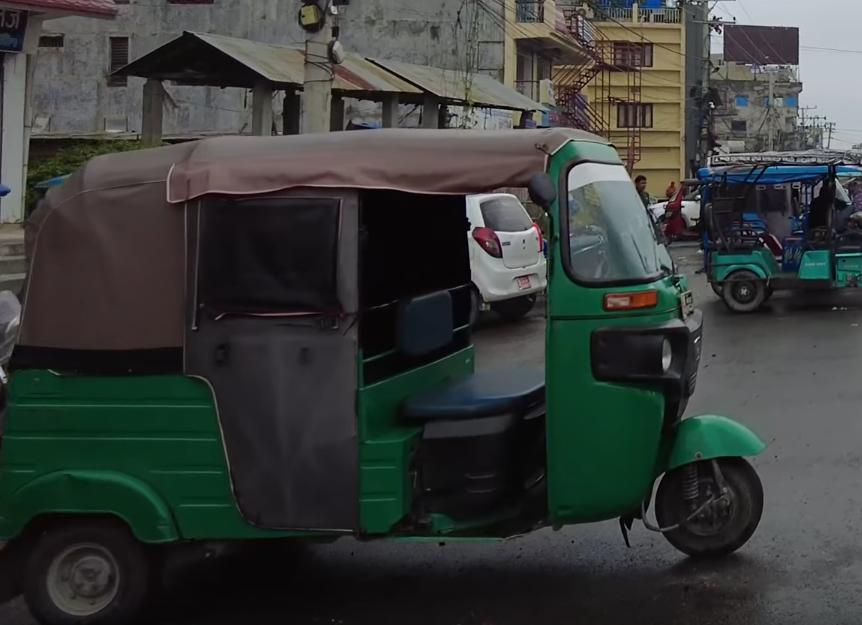auto_rickshaw: (0, 124, 772, 625)
e-rickshaw: (698, 157, 862, 317)
